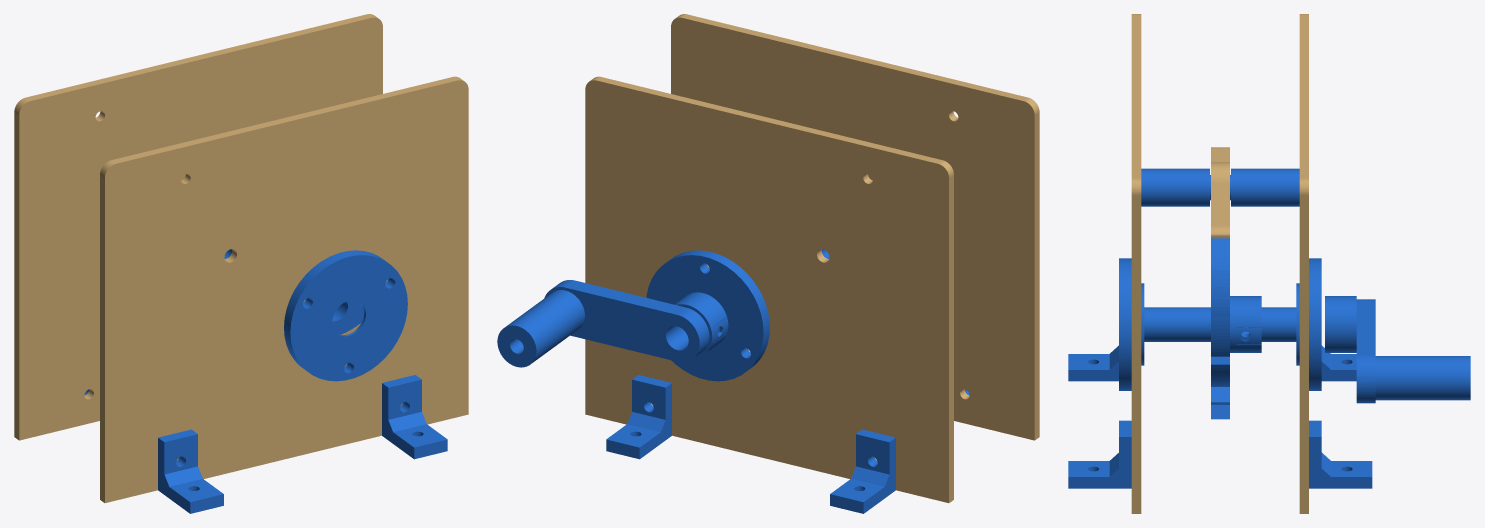
Rendered from m06_baugruppe.glb.
The picture shows the model from 3 angles, left to right: view 1: azimuth 30°, elevation 25°; view 2: azimuth 150°, elevation 25°; view 3: azimuth 270°, elevation 25°; orthographic projection. The views are drawn at different scales.
Visible parts, largest first — view 1: M06-P01_2, M06-P01_1, M06-P02_2, M06-P09_4, M06-P09_2, M06-P03_1; view 2: M06-P01_1, M06-P01_2, M06-P10_1, M06-P02_1, M06-P11_1, M06-P09_3, M06-P09_1; view 3: M06-P01_2, M06-P03_1, M06-P01_1, M06-P11_1, M06-P10_1, M06-P06_1, M06-P06_2, M06-P09_4, M06-P09_3, M06-P08_1, M06-P02_1, M06-P02_2 (+5 smaller).
Part boxes in pixels (left/top/right/bottom): M06-P01_2: left=100, top=76, right=468, bottom=502; M06-P01_1: left=14, top=14, right=382, bottom=440; M06-P02_2: left=284, top=250, right=407, bottom=381; M06-P09_4: left=382, top=375, right=447, bottom=459; M06-P09_2: left=158, top=429, right=223, bottom=513; M06-P03_1: left=332, top=300, right=364, bottom=334; M06-P01_1: left=585, top=76, right=953, bottom=502; M06-P01_2: left=671, top=14, right=1039, bottom=440; M06-P10_1: left=544, top=280, right=728, bottom=362; M06-P02_1: left=646, top=250, right=769, bottom=381; M06-P11_1: left=497, top=290, right=584, bottom=367; M06-P09_3: left=606, top=375, right=671, bottom=459; M06-P09_1: left=830, top=429, right=895, bottom=513; M06-P01_2: left=1131, top=14, right=1141, bottom=513; M06-P03_1: left=1211, top=238, right=1261, bottom=419; M06-P01_1: left=1299, top=14, right=1308, bottom=513; M06-P11_1: left=1375, top=356, right=1470, bottom=400; M06-P10_1: left=1325, top=296, right=1375, bottom=403; M06-P06_1: left=1231, top=168, right=1299, bottom=206; M06-P06_2: left=1141, top=168, right=1209, bottom=206; M06-P09_4: left=1068, top=420, right=1131, bottom=488; M06-P09_3: left=1309, top=420, right=1372, bottom=488; M06-P08_1: left=1144, top=307, right=1210, bottom=341; M06-P02_1: left=1296, top=258, right=1321, bottom=390; M06-P02_2: left=1119, top=258, right=1144, bottom=390.
Bounding box in the file's own units: 133 × 115 × 127.
